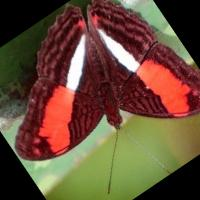butterfly: (15, 0, 200, 159)
